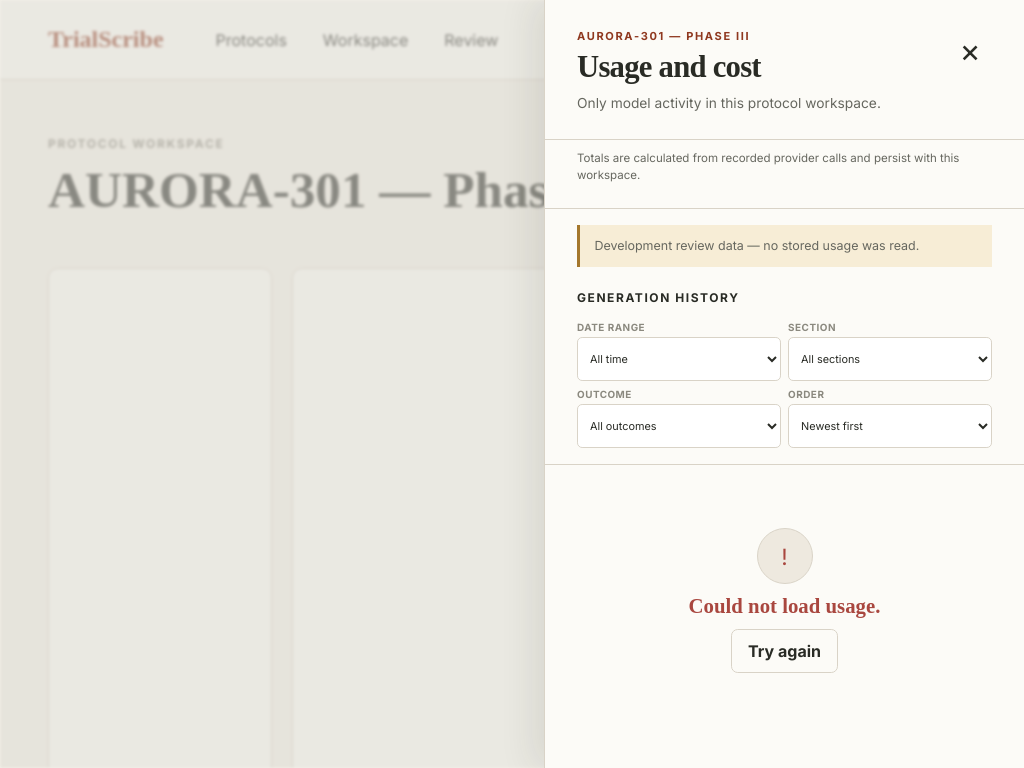
UsagePage › recovers from the review error without claiming a stored read
(page scrolled)
Click the button "Try again": (784, 651) [731,629,838,673]
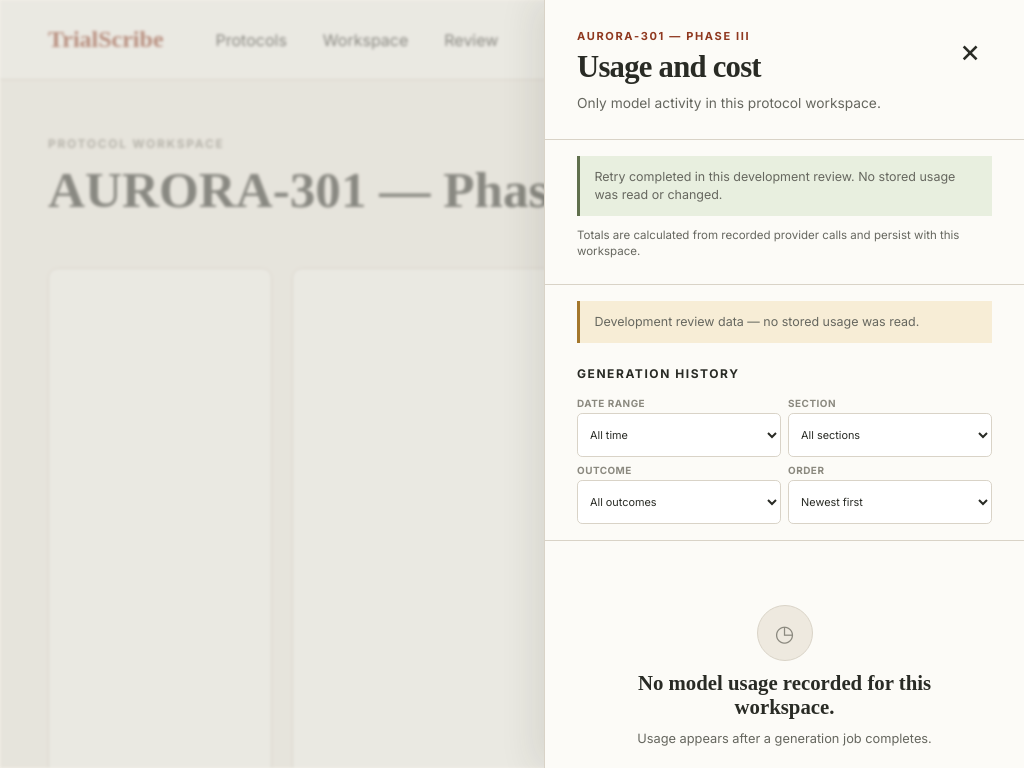
Check: the heading "No model usage recorded for this workspace." is shown, box [624,671,944,719]
Check: the text "No stored usage was read or changed" is shown, box [594,169,955,202]
